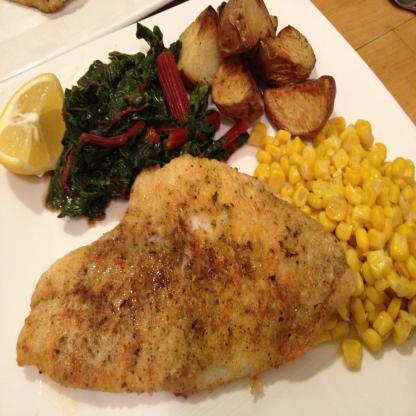lemon: (0, 72, 64, 176)
